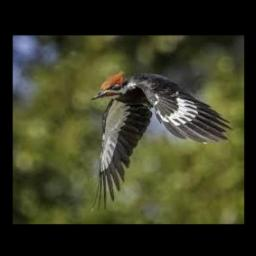Woodpecker: (91, 70, 233, 212)
